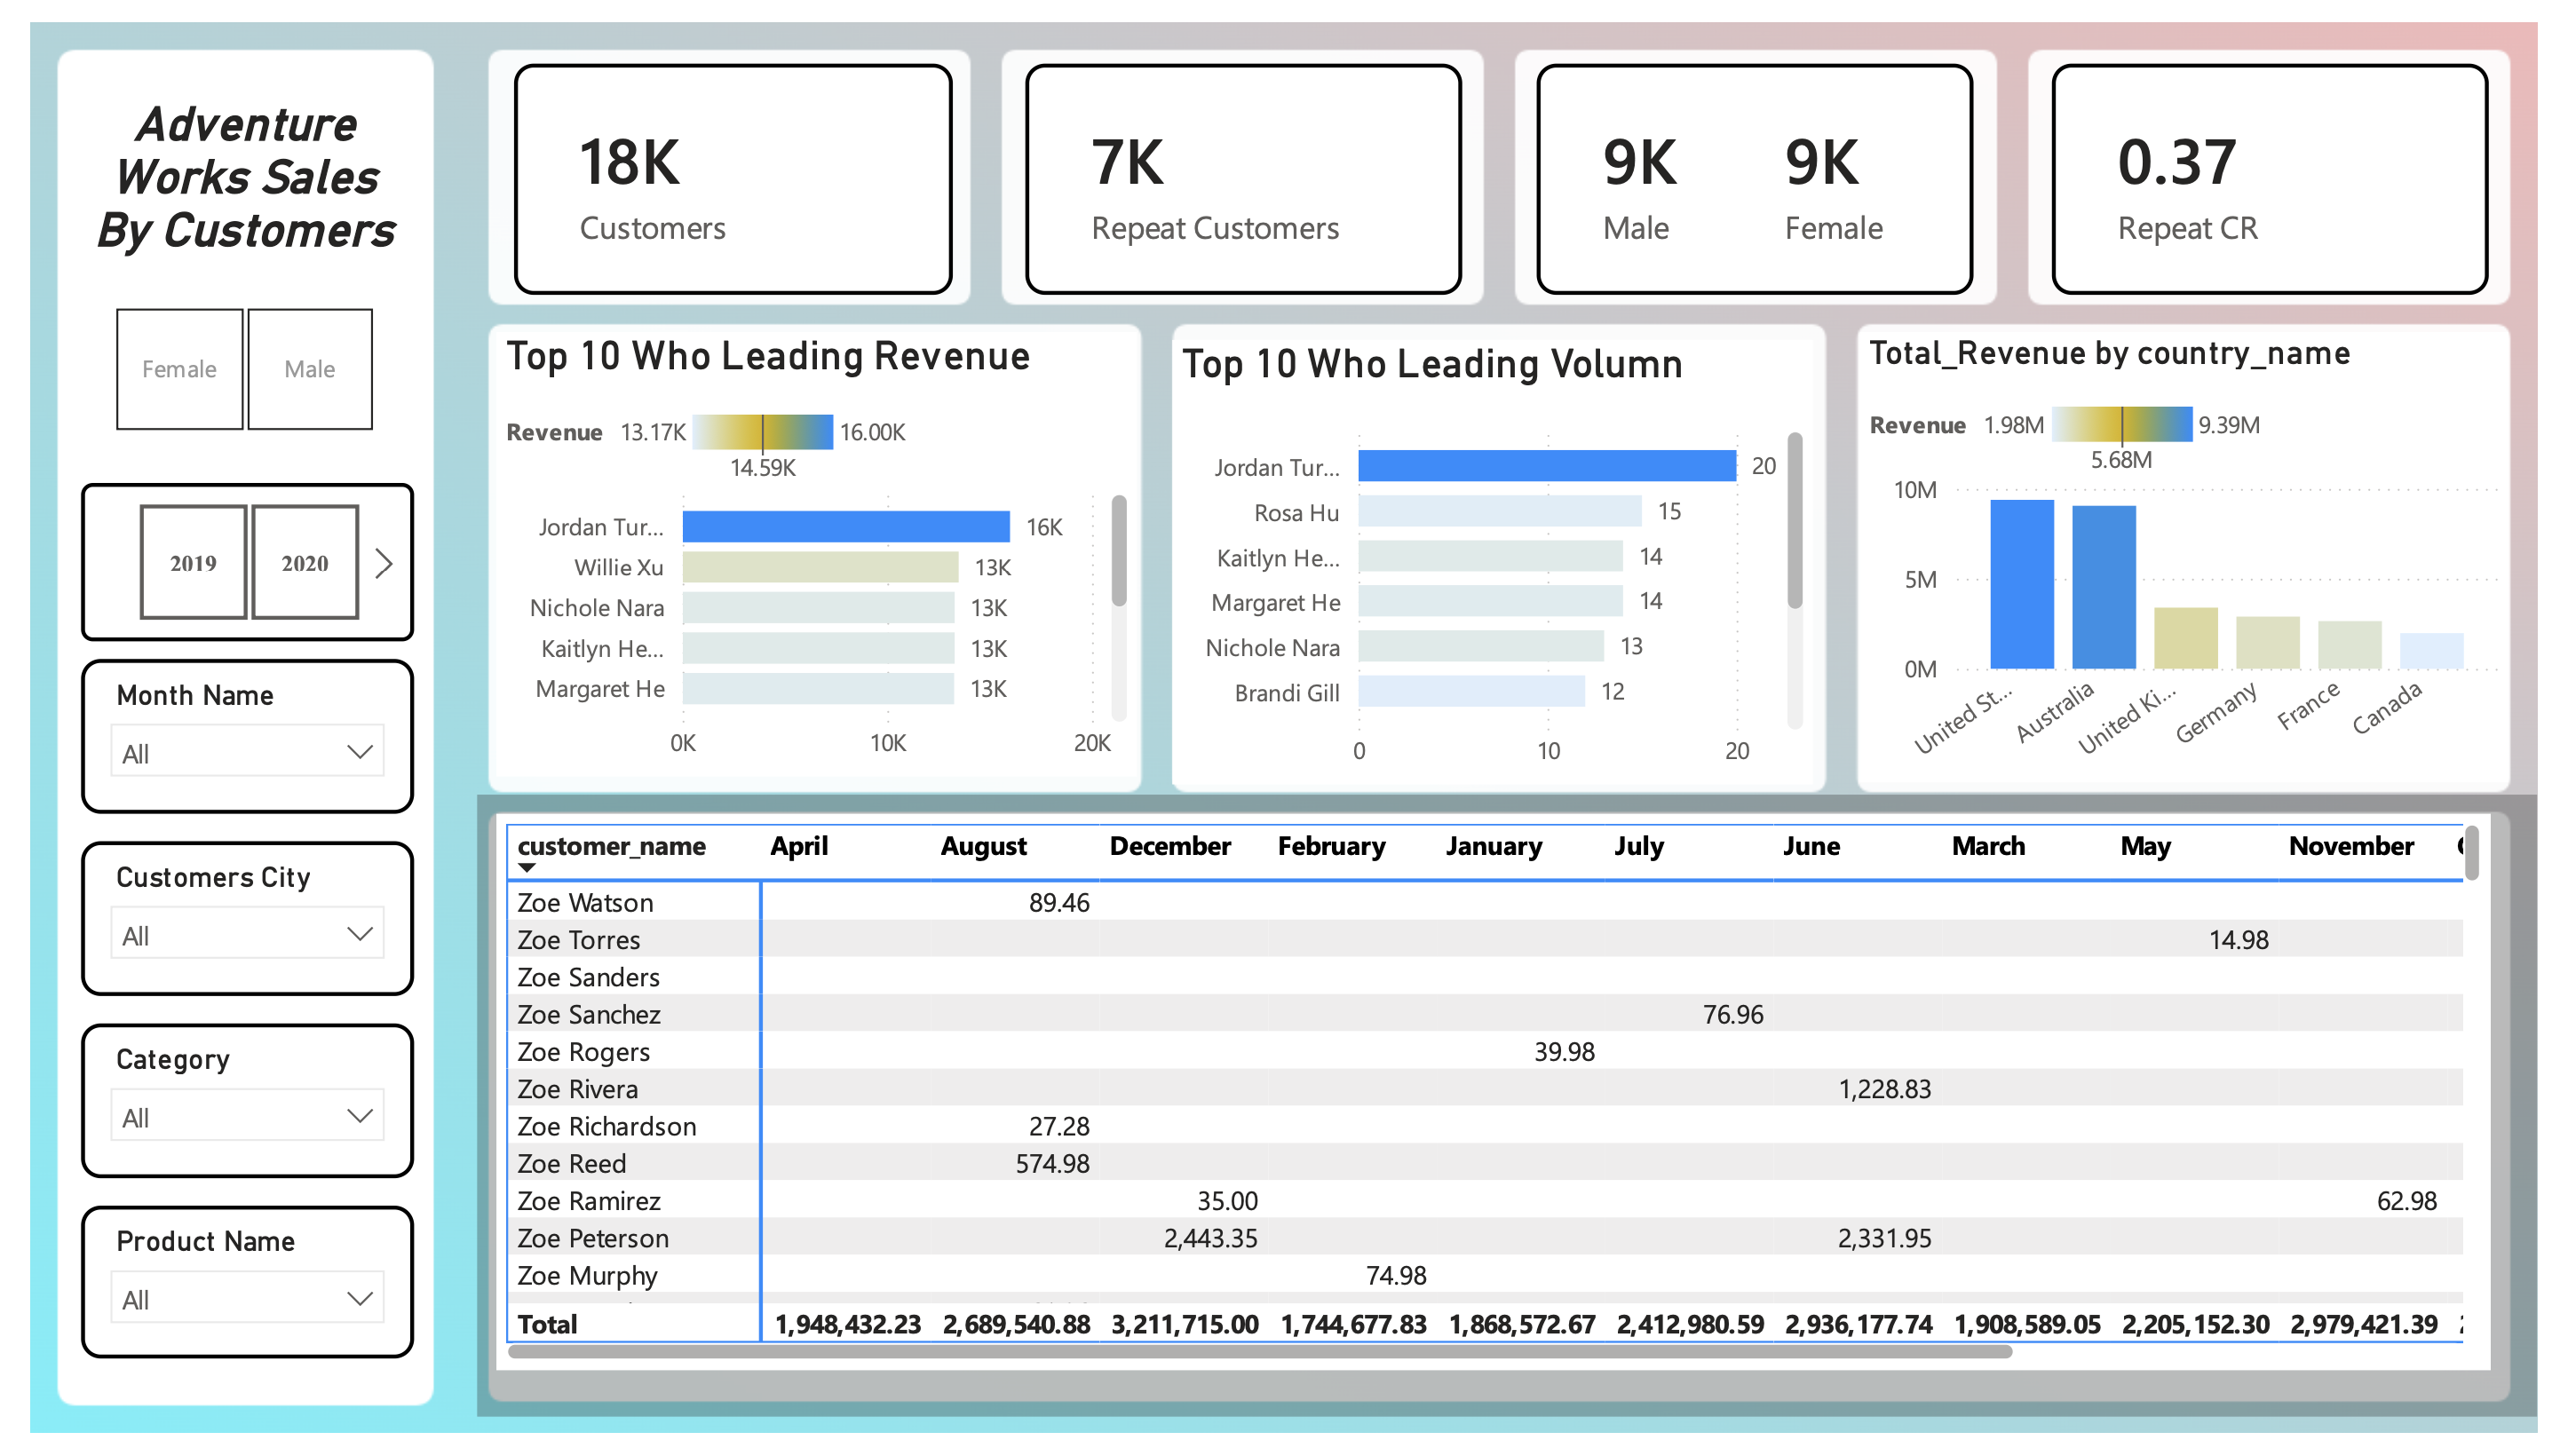

Layout of this report page (visuals, bound fields, positions):
{"tool":"powerbi","page":{"name":"D2_Adventure Works Sales By Customers","canvas":[1280,720],"ordinal":1},"visuals":[{"type":"image","box":[0,0,1280,719.7],"z":0},{"type":"slicer","fields":{"Values":["dim_date.year"]},"box":[26.2,234.7,169.7,80.9],"z":1000},{"type":"slicer","fields":{"Values":["dim_date.month_name"]},"box":[26.2,325.3,169.7,78.6],"z":2000},{"type":"textbox","box":[23.9,15.9,170.9,110.5],"z":3000},{"type":"slicer","fields":{"Values":["dim_product.category"]},"box":[26.2,510.9,169.7,78.6],"z":4000},{"type":"slicer","fields":{"Values":["dim_geography.city"]},"box":[26.2,418.1,169.7,78.6],"z":5000},{"type":"slicer","fields":{"Values":["dim_product.product_name"]},"box":[26.2,603.8,169.7,78.6],"z":6000},{"type":"slicer","fields":{"Values":["dim_customer.gender"]},"box":[18.2,139,181.1,76.3],"z":7000},{"type":"cardVisual","fields":{"Data":["Key Metrics.Customers"]},"box":[247.2,20.5,223.3,118.5],"z":8000},{"type":"cardVisual","fields":{"Data":["Key Metrics.Repeat Customers"]},"box":[508.1,20.5,223.3,118.5],"z":9000},{"type":"cardVisual","fields":{"Data":["Key Metrics.Male","Key Metrics.Female"]},"box":[769,20.5,223.3,118.5],"z":10000},{"type":"cardVisual","fields":{"Data":["Key Metrics.Repeat CR"]},"box":[1032.2,20.5,223.3,118.5],"z":11000},{"type":"clusteredBarChart","title":"Top 10 Who Leading Revenue","fields":{"Category":["dim_customer.customer_name"],"Y":["Key Metrics.Total_Revenue"]},"box":[238.1,158.4,327,226.7],"z":12000},{"type":"pivotTable","fields":{"Rows":["dim_customer.customer_name"],"Columns":["dim_date.month_name"],"Values":["Key Metrics.Total_Revenue"]},"box":[237.8,403.5,1017.8,284],"z":13000},{"type":"clusteredBarChart","title":"Top 10 Who Leading Volumn","fields":{"Category":["dim_customer.customer_name"],"Y":["Sum(fact_sales.order_quantity)"]},"box":[583.5,161.9,327,226.7],"z":14000},{"type":"clusteredColumnChart","fields":{"Y":["Key Metrics.Total_Revenue"],"Category":["dim_geography.country_name"]},"box":[934.3,158.1,330.3,230],"z":15000}]}

Visuals, with their boxes in screenshot pixels (x1, y1, x2, y2), scaled from the page's 1280x720 canvas onto the 2568x1456 screenshot:
image: rect(0, 0, 2567, 1455)
slicer - dim_date.year: rect(52, 475, 393, 638)
slicer - dim_date.month_name: rect(52, 658, 393, 817)
textbox: rect(48, 32, 391, 256)
slicer - dim_product.category: rect(52, 1033, 393, 1192)
slicer - dim_geography.city: rect(52, 845, 393, 1004)
slicer - dim_product.product_name: rect(52, 1221, 393, 1380)
slicer - dim_customer.gender: rect(36, 281, 400, 435)
cardVisual - Key Metrics.Customers: rect(496, 42, 944, 281)
cardVisual - Key Metrics.Repeat Customers: rect(1019, 42, 1468, 281)
cardVisual - Key Metrics.Male x Key Metrics.Female: rect(1542, 42, 1991, 281)
cardVisual - Key Metrics.Repeat CR: rect(2071, 42, 2519, 281)
"Top 10 Who Leading Revenue" clusteredBarChart: rect(478, 320, 1134, 779)
pivotTable - dim_customer.customer_name x dim_date.month_name: rect(477, 816, 2519, 1390)
"Top 10 Who Leading Volumn" clusteredBarChart: rect(1170, 328, 1827, 786)
clusteredColumnChart - Key Metrics.Total_Revenue x dim_geography.country_name: rect(1874, 320, 2537, 785)
